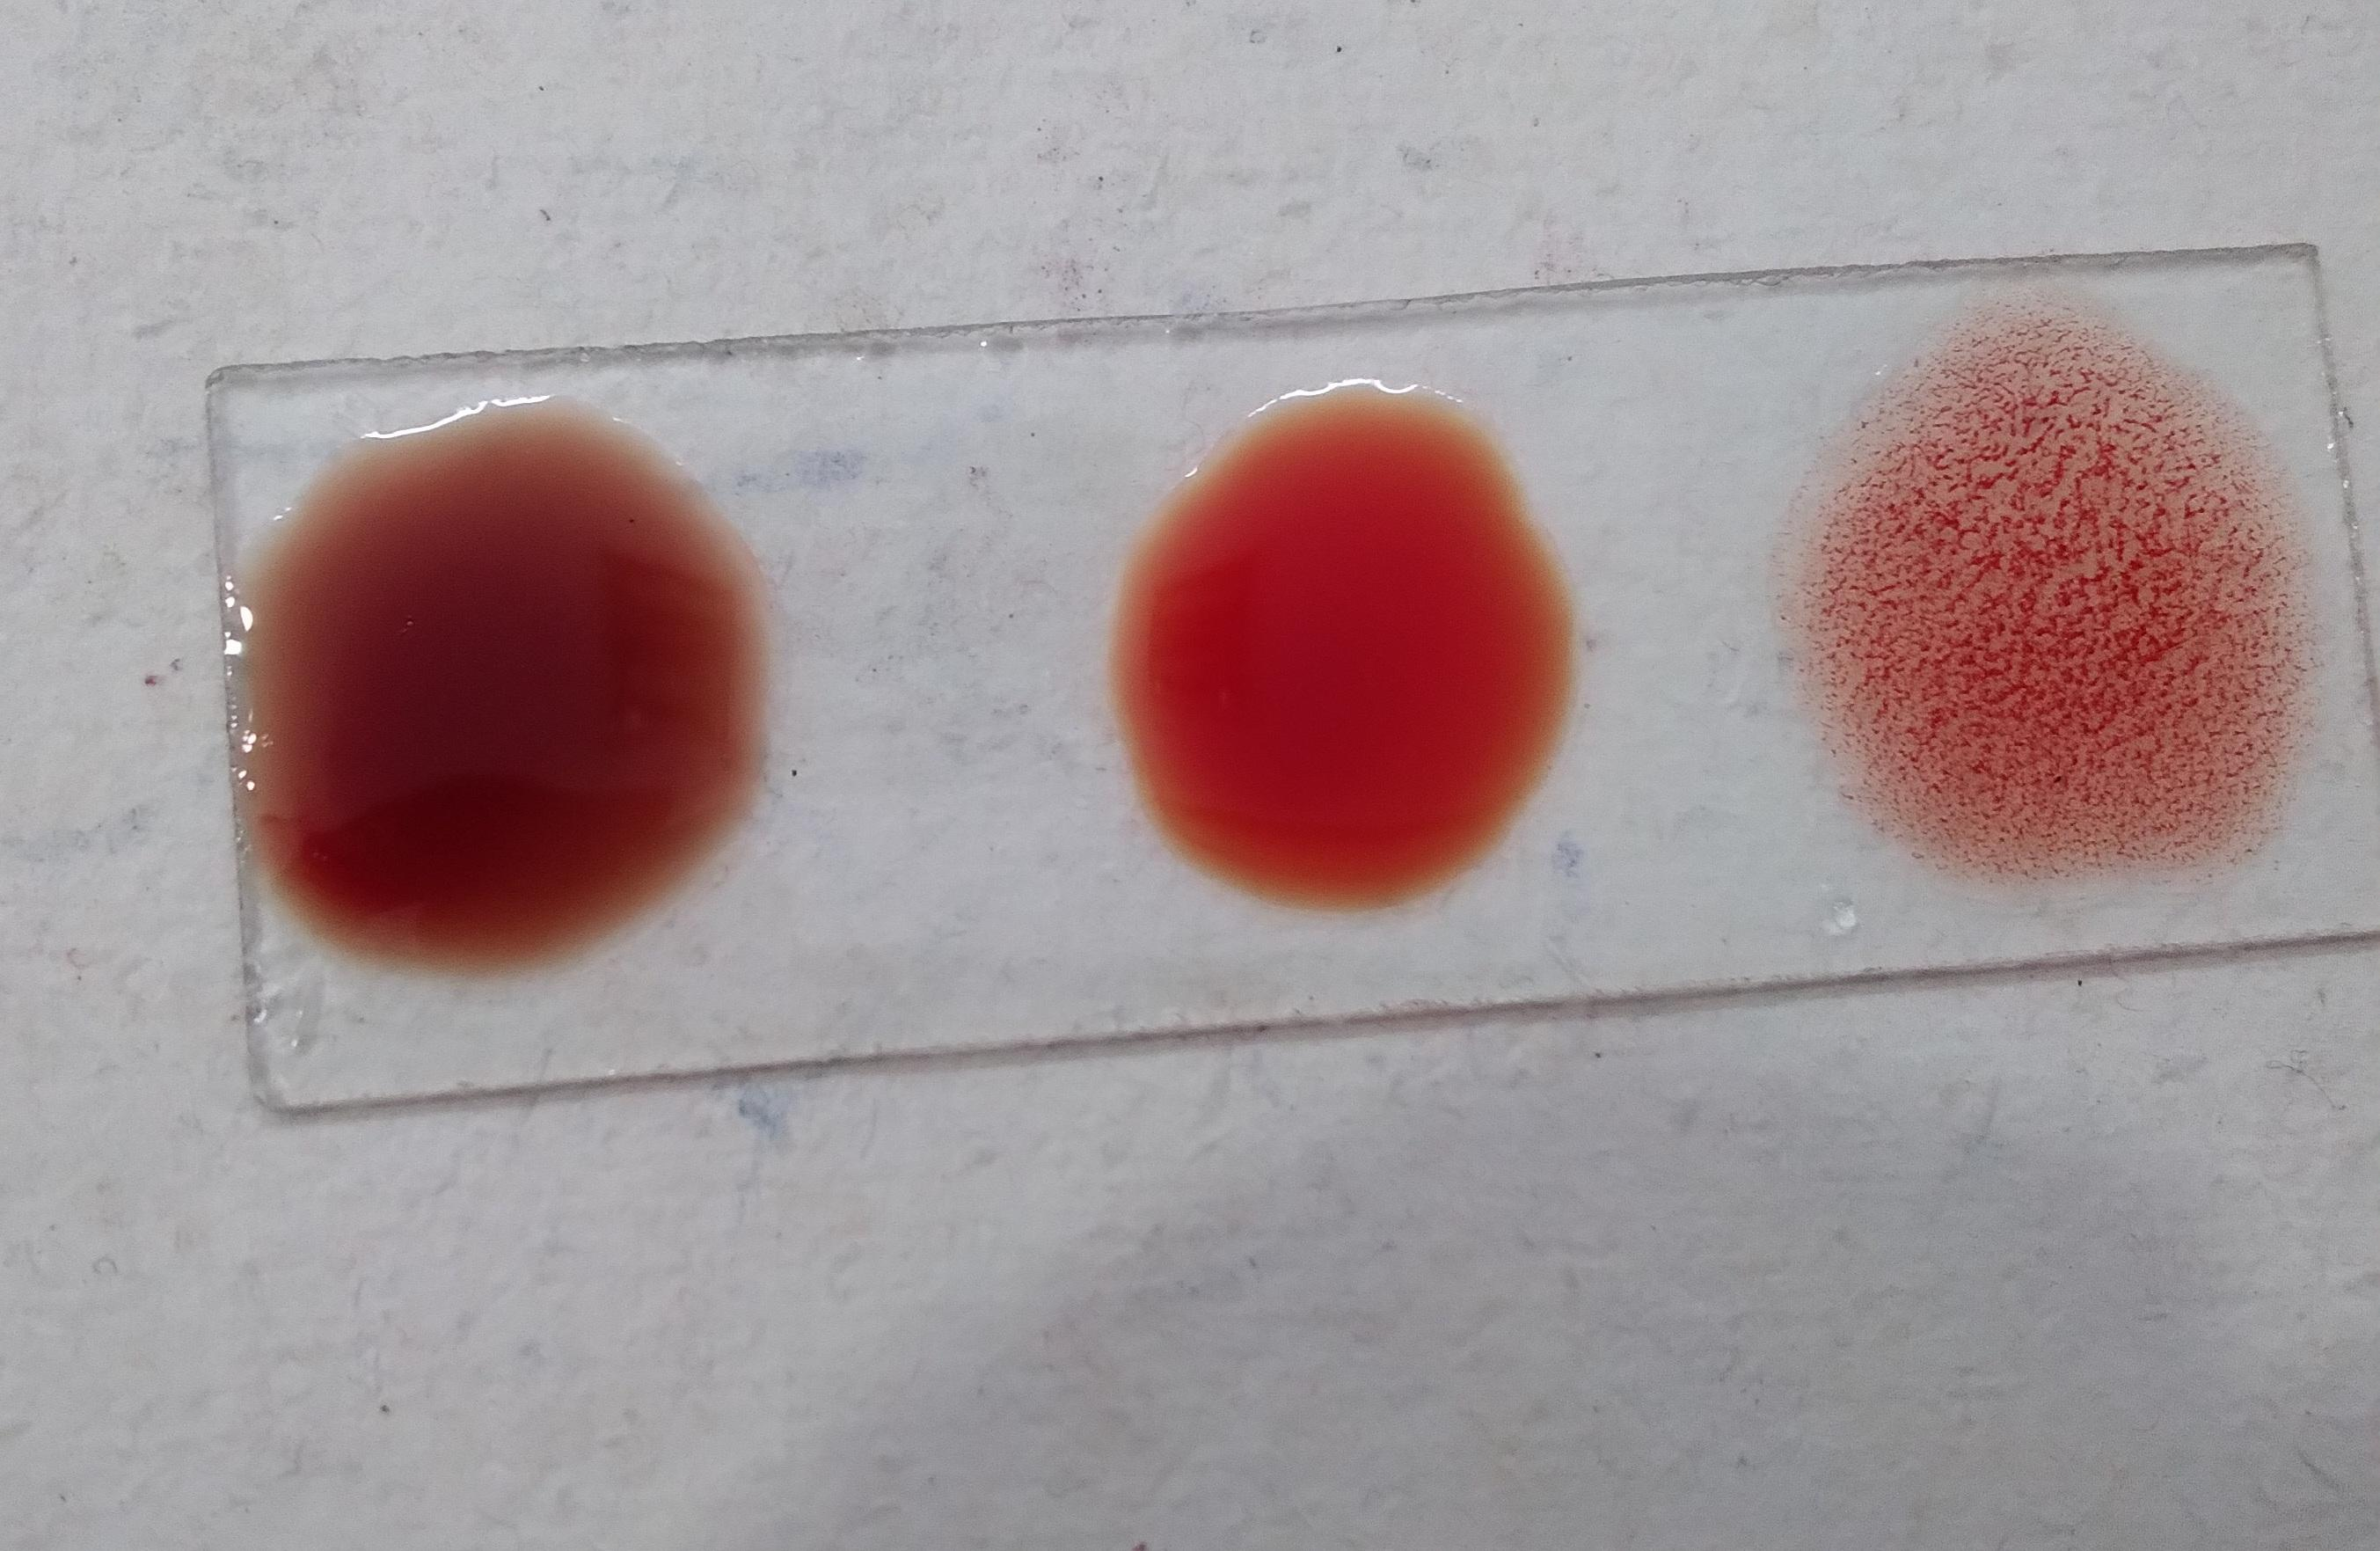D: (1792, 331, 2305, 871)
